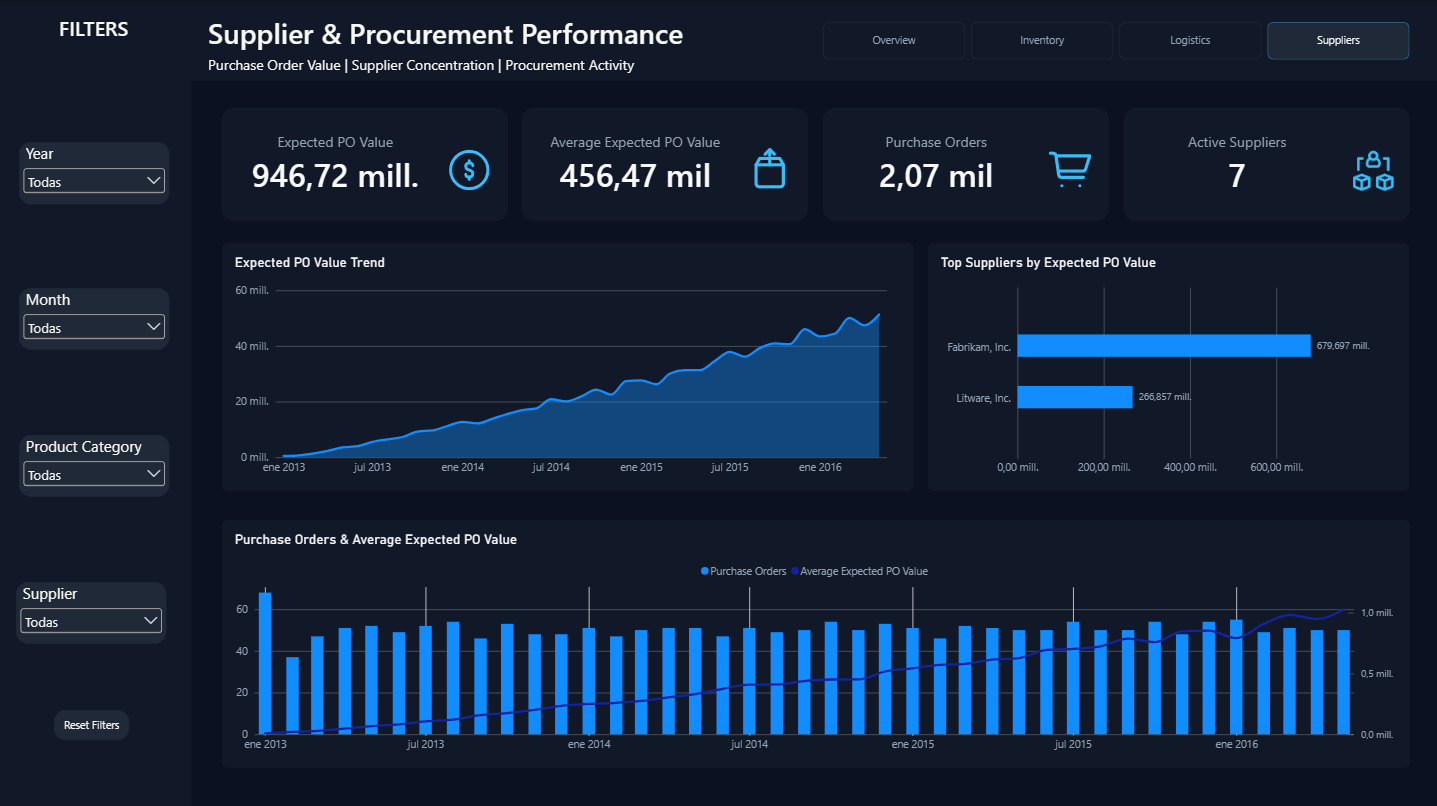

What the dashboard file says about the page in this screenshot:
{"tool":"powerbi","page":{"name":"Suppliers","canvas":[1920,1080],"ordinal":3},"visuals":[{"type":"shape","box":[250.9,0,1669.1,109.1],"z":0},{"type":"textbox","box":[281.6,19.5,1079.8,55.4],"z":1000},{"type":"textbox","box":[281.6,74.9,1079.8,34.4],"z":2000},{"type":"shape","box":[0,1.5,260,1079],"z":3000},{"type":"textbox","box":[0,1.4,260,107.1],"z":4000},{"type":"cardVisual","fields":{"Data":["_Medidas.Total Purchase Value"]},"box":[300,145,380,150],"z":5000},{"type":"cardVisual","fields":{"Data":["_Medidas.Supplier Fill Rate %"]},"box":[700,145,380,150],"z":6000},{"type":"cardVisual","fields":{"Data":["_Medidas.Purchase Orders"]},"box":[1100,145,380,150],"z":7000},{"type":"cardVisual","fields":{"Data":["_Medidas.Active Suppliers"]},"box":[1500,145,380,150],"z":8000},{"type":"pageNavigator","box":[1100,30,780,50],"z":9000},{"type":"slicer","fields":{"Values":["dim_date.year"]},"box":[30,190,200,82.9],"z":10000},{"type":"slicer","fields":{"Values":["dim_date.month_name"]},"box":[30,385,200,82],"z":11000},{"type":"slicer","fields":{"Values":["dim_stock_group.stock_group_name"]},"box":[30,580,200,82],"z":12000},{"type":"slicer","fields":{"Values":["dim_supplier.supplier_name"]},"box":[27.1,775,200,82],"z":13000},{"type":"actionButton","title":"Reset Filters","box":[76.6,946,100,40],"z":14000},{"type":"areaChart","title":"Expected PO Value Trend","fields":{"Category":["dim_date.YearMonthDate"],"Y":["_Medidas.Total Purchase Value"]},"box":[300.6,325,920,330],"z":15000},{"type":"barChart","title":"Top Suppliers by Expected PO Value","fields":{"Category":["dim_supplier.supplier_name"],"Y":["_Medidas.Total Purchase Value"]},"box":[1240,325,640,330],"z":16000},{"type":"lineStackedColumnComboChart","title":"Purchase Orders & Average Expected PO Value","fields":{"Category":["dim_date.YearMonthDate"],"Y":["_Medidas.Purchase Orders"],"Y2":["_Medidas.Average Purchase Order Value"]},"box":[300.4,692.4,1580,330],"z":17000}]}

Visuals, with their boxes in screenshot pixels (x1, y1, x2, y2), scaled from the page's 1920x1080 canvas onto the 1437x806 screenshot:
shape: <bbox>188, 0, 1436, 81</bbox>
textbox: <bbox>211, 15, 1019, 56</bbox>
textbox: <bbox>211, 56, 1019, 82</bbox>
shape: <bbox>0, 1, 195, 805</bbox>
textbox: <bbox>0, 1, 195, 81</bbox>
cardVisual - _Medidas.Total Purchase Value: <bbox>225, 108, 509, 220</bbox>
cardVisual - _Medidas.Supplier Fill Rate %: <bbox>524, 108, 808, 220</bbox>
cardVisual - _Medidas.Purchase Orders: <bbox>823, 108, 1108, 220</bbox>
cardVisual - _Medidas.Active Suppliers: <bbox>1123, 108, 1407, 220</bbox>
pageNavigator: <bbox>823, 22, 1407, 60</bbox>
slicer - dim_date.year: <bbox>22, 142, 172, 204</bbox>
slicer - dim_date.month_name: <bbox>22, 287, 172, 349</bbox>
slicer - dim_stock_group.stock_group_name: <bbox>22, 433, 172, 494</bbox>
slicer - dim_supplier.supplier_name: <bbox>20, 578, 170, 640</bbox>
"Reset Filters" actionButton: <bbox>57, 706, 132, 736</bbox>
"Expected PO Value Trend" areaChart: <bbox>225, 243, 914, 489</bbox>
"Top Suppliers by Expected PO Value" barChart: <bbox>928, 243, 1407, 489</bbox>
"Purchase Orders & Average Expected PO Value" lineStackedColumnComboChart: <bbox>225, 517, 1407, 763</bbox>
